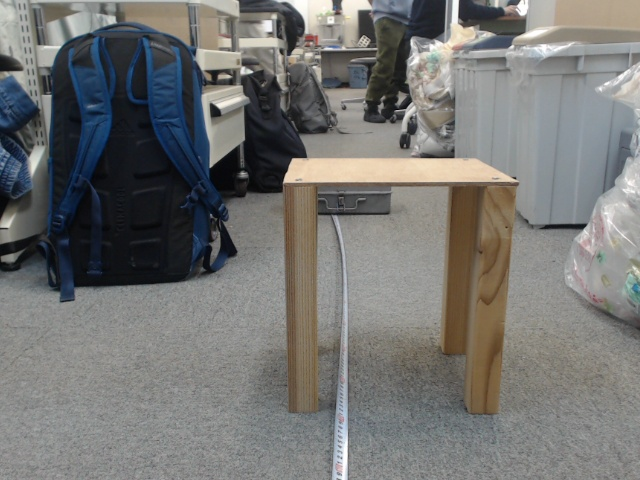desk: (283, 130, 514, 409)
